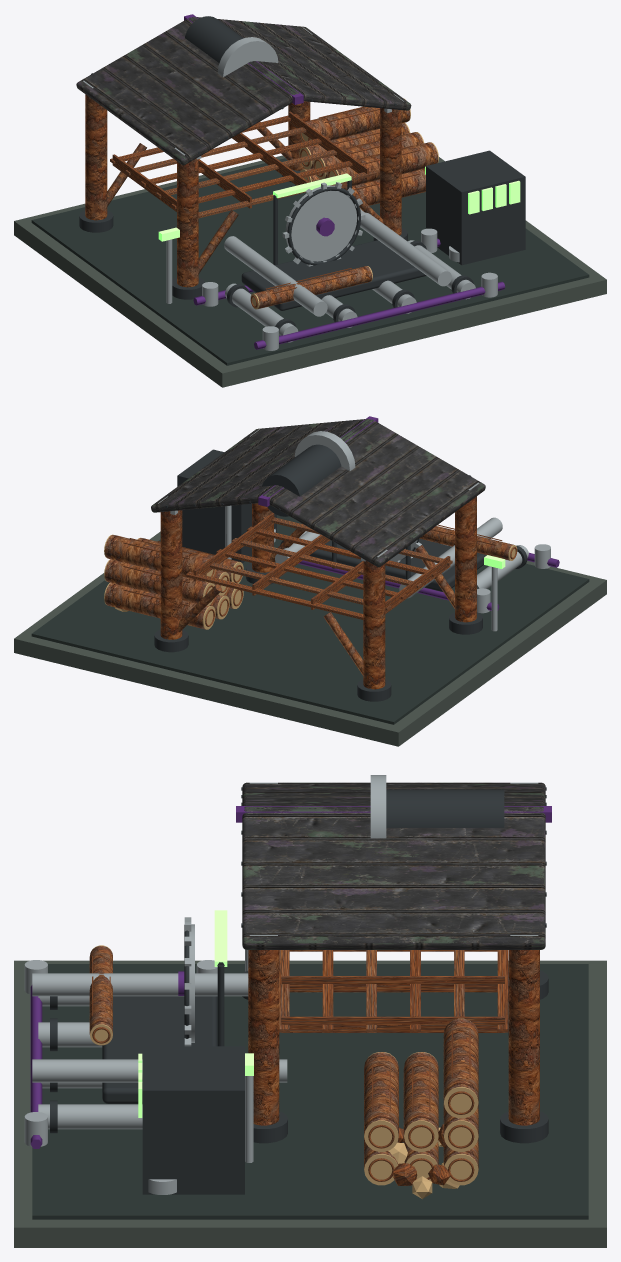
The model's file is timberline_v4_l02.glb.
3 views of the same model, one above another, from view 1: azimuth 30°, elevation 25°; view 2: azimuth 150°, elevation 25°; view 3: azimuth 270°, elevation 25° (orthographic). The views are drawn at different scales.
Visible parts, largest first — view 1: timberline_v4_l02, stone_yard_base, hydraulic_sorter, saw_carriage, circular_saw_blade, saw_rotor, conveyor_roller_0, saw_safety_light, conveyor_roller_30, conveyor_roller_20; view 2: timberline_v4_l02, stone_yard_base, hydraulic_sorter, saw_carriage, conveyor_roller_0; view 3: timberline_v4_l02, stone_yard_base, hydraulic_sorter, saw_carriage, conveyor_roller_30, conveyor_roller_10, saw_rotor, saw_safety_light, roof_spine.
Part boxes in pixels (<box>): timberline_v4_l02: <box>31,16,589,365</box>; stone_yard_base: <box>14,155,606,387</box>; hydraulic_sorter: <box>426,150,525,265</box>; saw_carriage: <box>241,240,426,310</box>; circular_saw_blade: <box>285,185,356,261</box>; saw_rotor: <box>282,182,365,266</box>; conveyor_roller_0: <box>225,283,298,342</box>; saw_safety_light: <box>273,173,351,198</box>; conveyor_roller_30: <box>408,240,475,299</box>; conveyor_roller_20: <box>372,280,416,313</box>; timberline_v4_l02: <box>31,418,589,724</box>; stone_yard_base: <box>14,531,606,746</box>; hydraulic_sorter: <box>177,449,276,563</box>; saw_carriage: <box>309,539,484,591</box>; conveyor_roller_0: <box>477,545,528,588</box>; timberline_v4_l02: <box>24,775,588,1219</box>; stone_yard_base: <box>14,960,606,1247</box>; hydraulic_sorter: <box>142,1046,244,1194</box>; saw_carriage: <box>102,996,217,1103</box>; conveyor_roller_30: <box>38,1104,142,1129</box>; conveyor_roller_10: <box>38,1022,102,1047</box>; saw_rotor: <box>178,917,191,1046</box>; saw_safety_light: <box>214,910,227,966</box>; roof_spine: <box>236,806,551,822</box>.
Size of the model in its own units: 6.5 by 3.5 by 6.1.
Materials: 10 (3 with a texture image).
